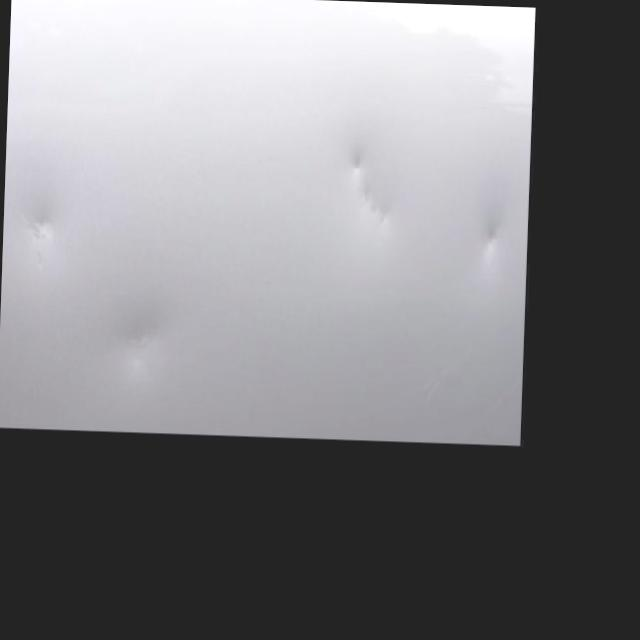dent: (338, 152, 396, 252), (90, 310, 166, 372), (12, 198, 64, 281), (465, 215, 498, 269)
